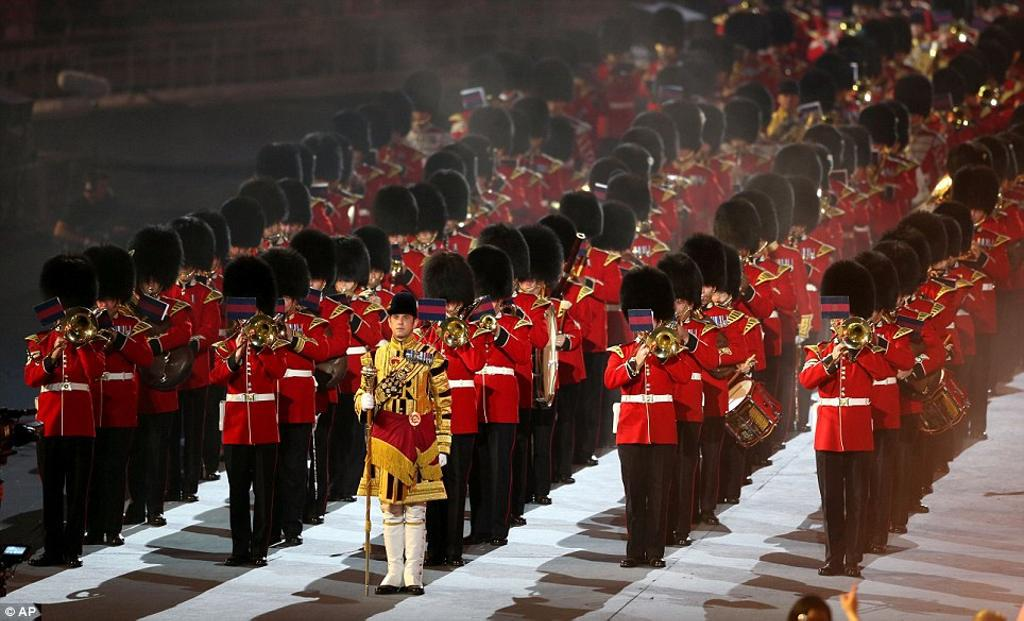face: (391, 309, 412, 336), (94, 293, 117, 317), (669, 294, 690, 318), (273, 290, 293, 312), (176, 257, 194, 281), (713, 285, 732, 307), (304, 272, 323, 294), (335, 272, 355, 292), (364, 264, 383, 285), (143, 274, 161, 296), (779, 93, 799, 110), (281, 219, 299, 237), (698, 281, 713, 302), (657, 44, 675, 60), (418, 226, 433, 244), (520, 273, 535, 291), (390, 229, 404, 246)
